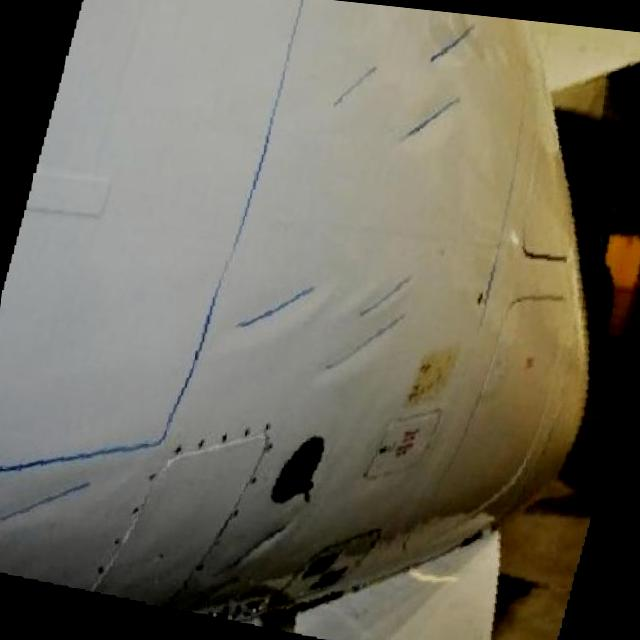dent: (316, 298, 410, 397), (224, 262, 336, 344), (0, 457, 110, 537), (216, 502, 300, 586), (354, 258, 422, 326), (396, 96, 452, 152), (428, 19, 474, 68)
